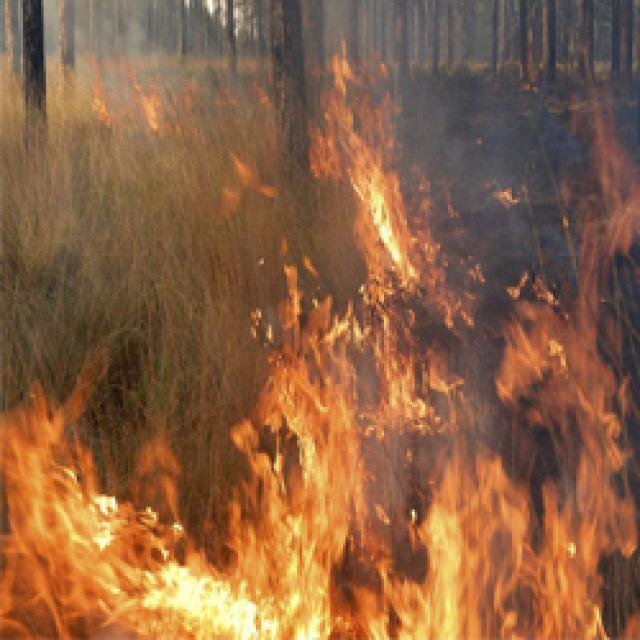Fire: (243, 255, 362, 640), (0, 352, 113, 640), (361, 535, 640, 640), (408, 430, 640, 536), (137, 73, 279, 215), (502, 302, 635, 429), (561, 95, 640, 299), (114, 428, 188, 640), (349, 180, 459, 304), (364, 301, 463, 437), (309, 55, 385, 183), (188, 492, 245, 640), (505, 272, 559, 303), (486, 183, 520, 209)
Smoke: (385, 50, 571, 180), (0, 0, 190, 91), (320, 0, 499, 54), (458, 212, 568, 270), (462, 336, 502, 428)
